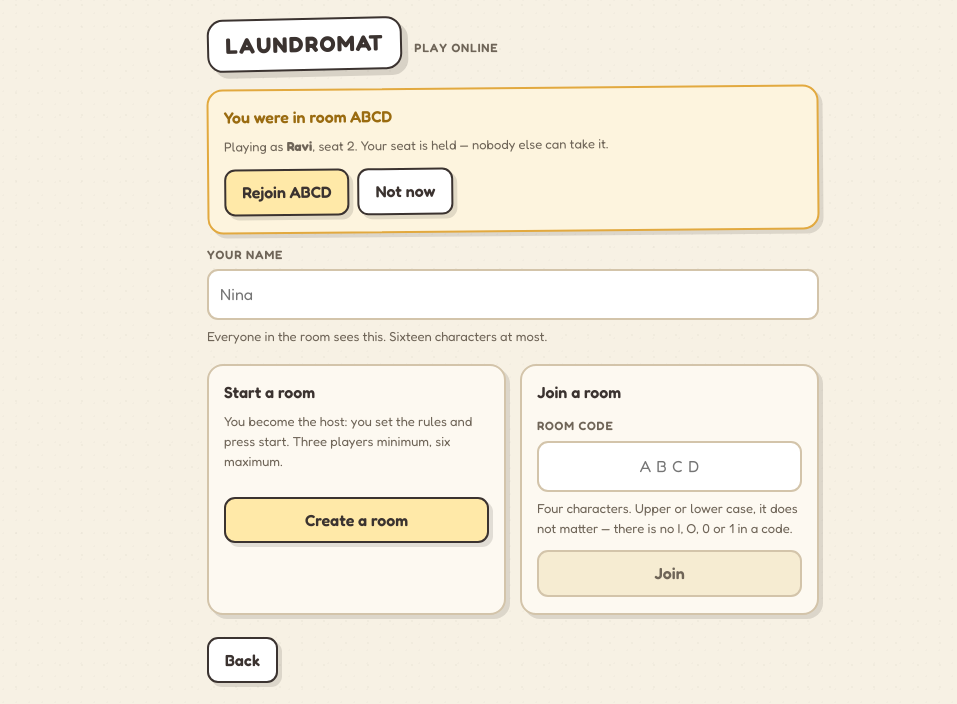
Test: reconnection › a seat whose room has vanished is explained and forgotten, not retried forever
Click the button "Rejoin ABCD". click: (287, 192)
box: [224,168,350,216]
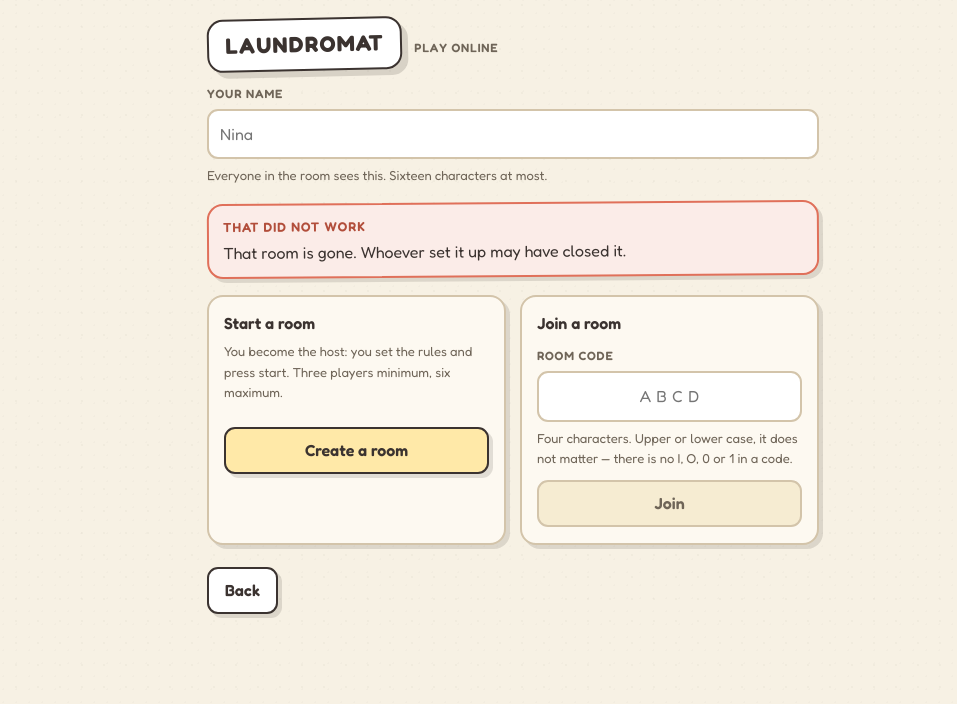
Now the text "That room is gone. Whoever set it up may have closed it." is shown, box [223,240,626,263]
Now the button "Rejoin ABCD" is gone
